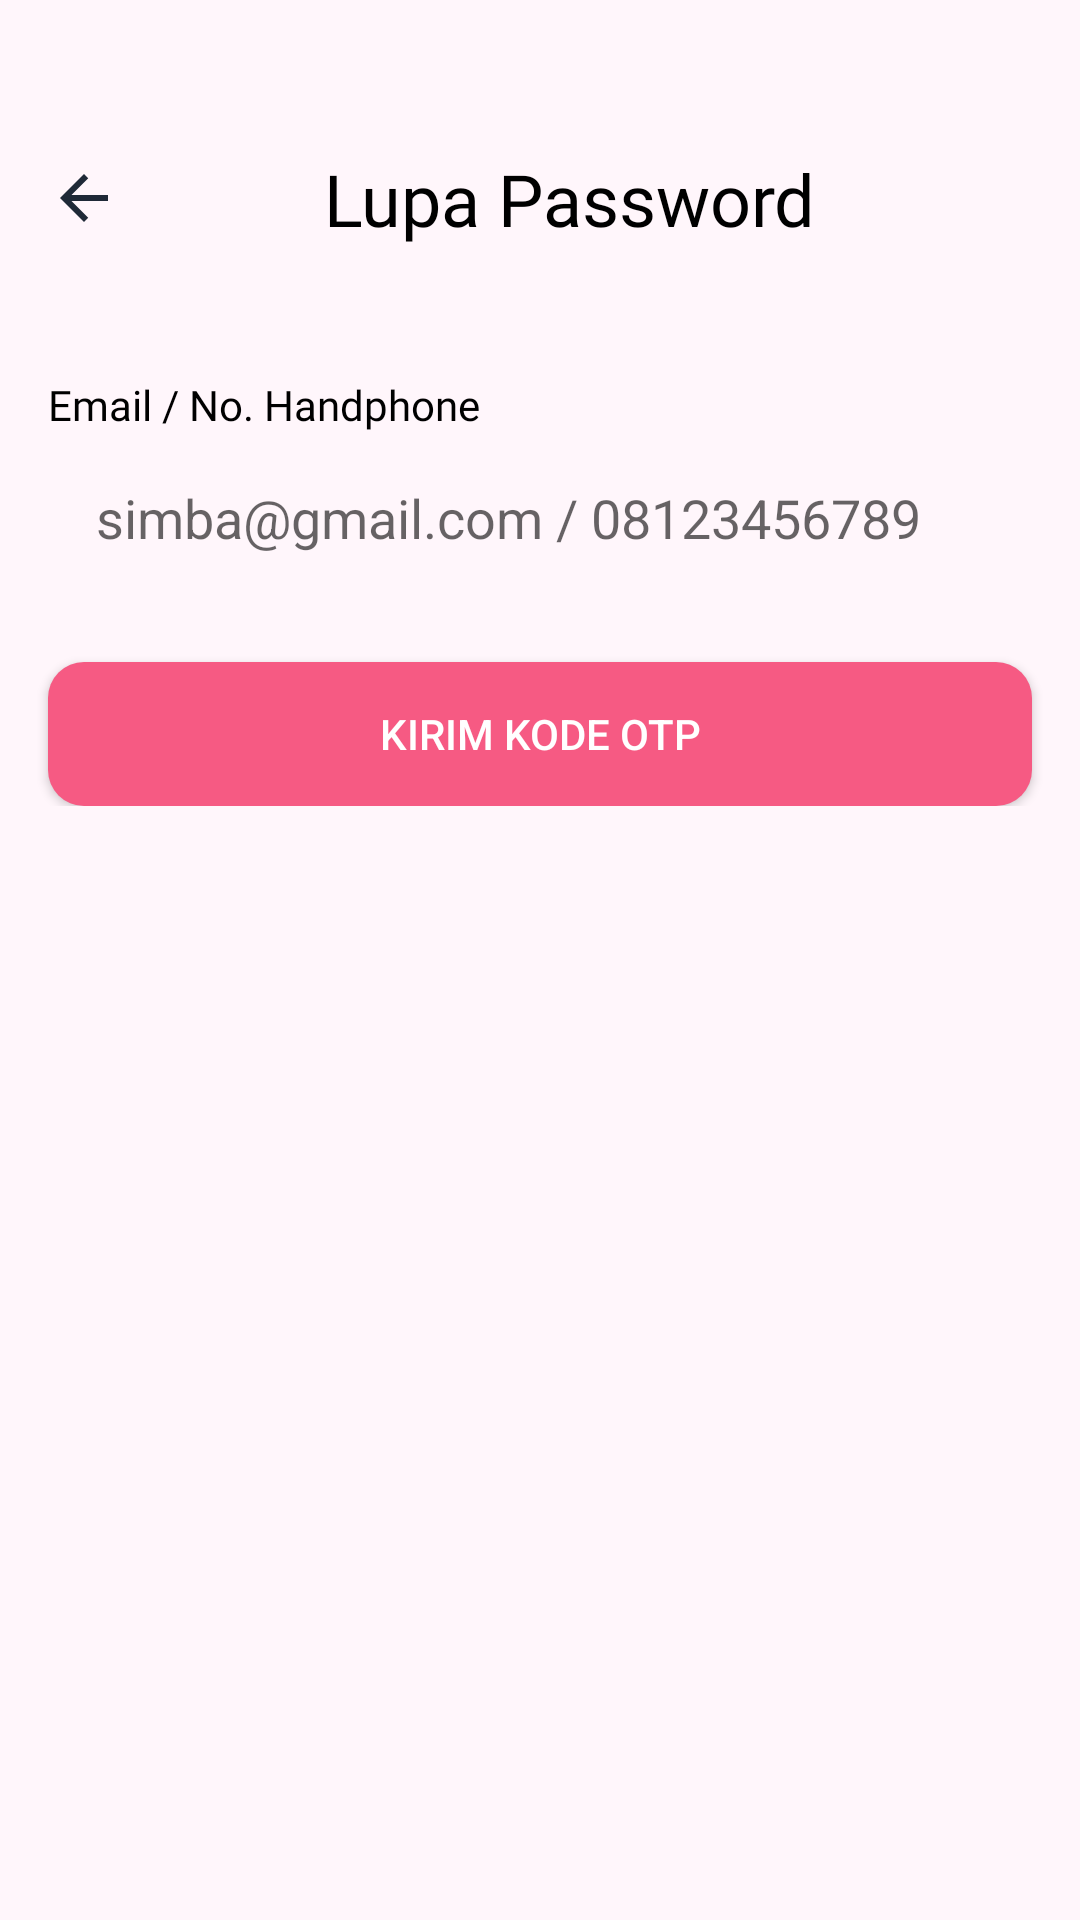

Point at icon controls on the screen. Image size 1080×1920, points as [x,y].
back: [84,198]
